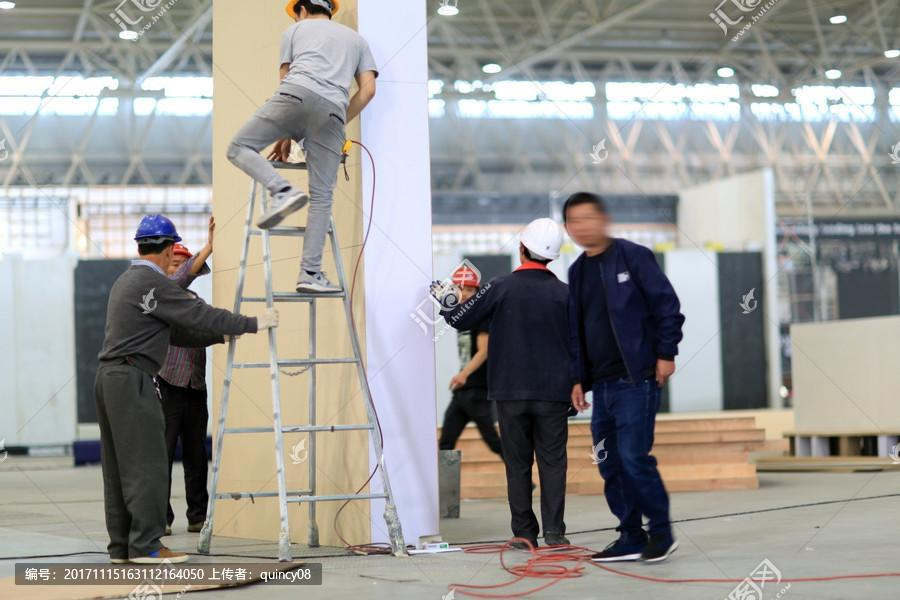helmet: (522, 213, 566, 266), (133, 214, 186, 243), (278, 1, 346, 19), (452, 266, 485, 288), (169, 240, 201, 260)
